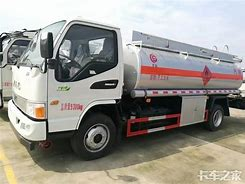oil truck: (2, 13, 243, 157)
